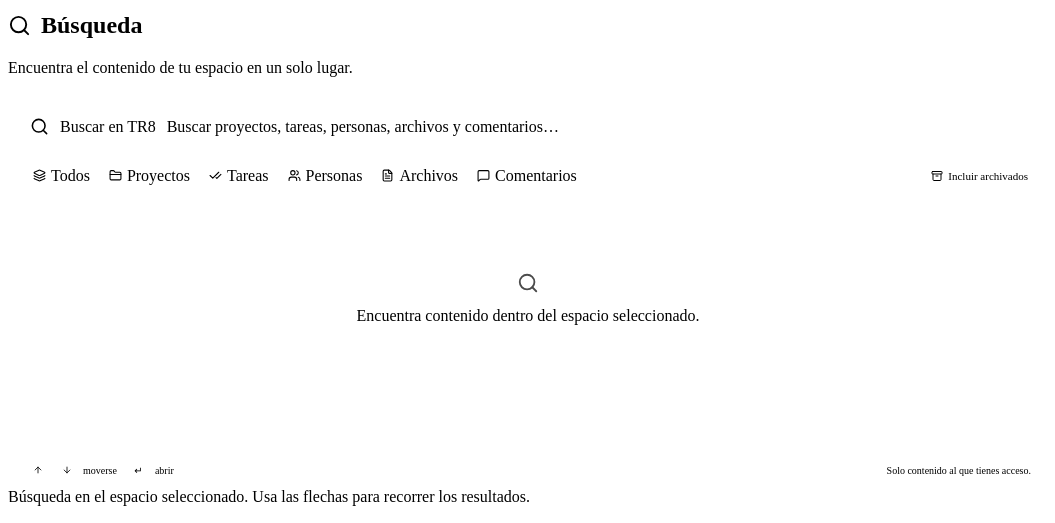
Test: búsqueda global y paleta de acciones › aborta una petición obsoleta e ignora una respuesta tardía
Type "Anterior" into the dropdown labelled "Buscar en TR8".
click(596, 127); type("Anterior")  # box [167,112,1026,142]
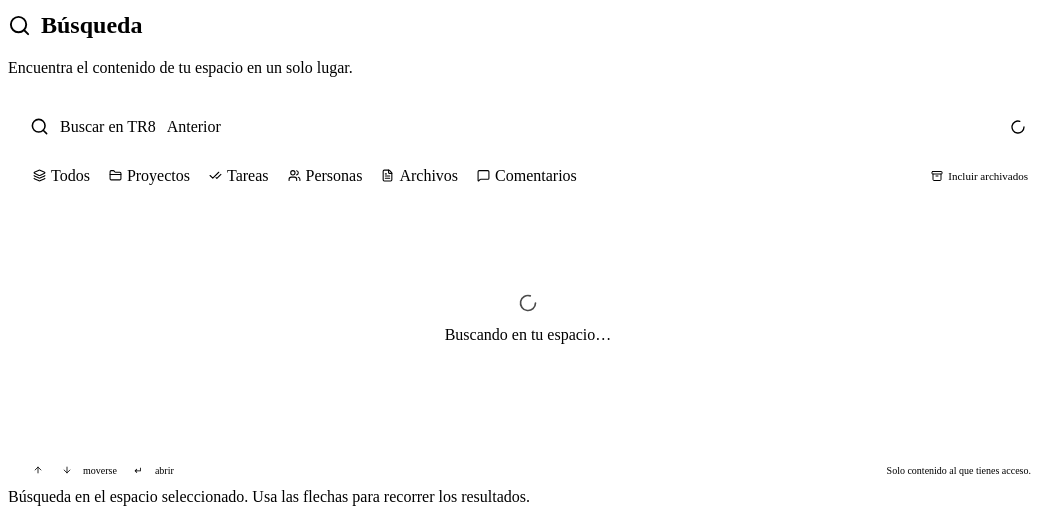
Replace the text in the dropdown labelled "Buscar en TR8" with "Plan" at (583, 127), box [167,112,999,142]
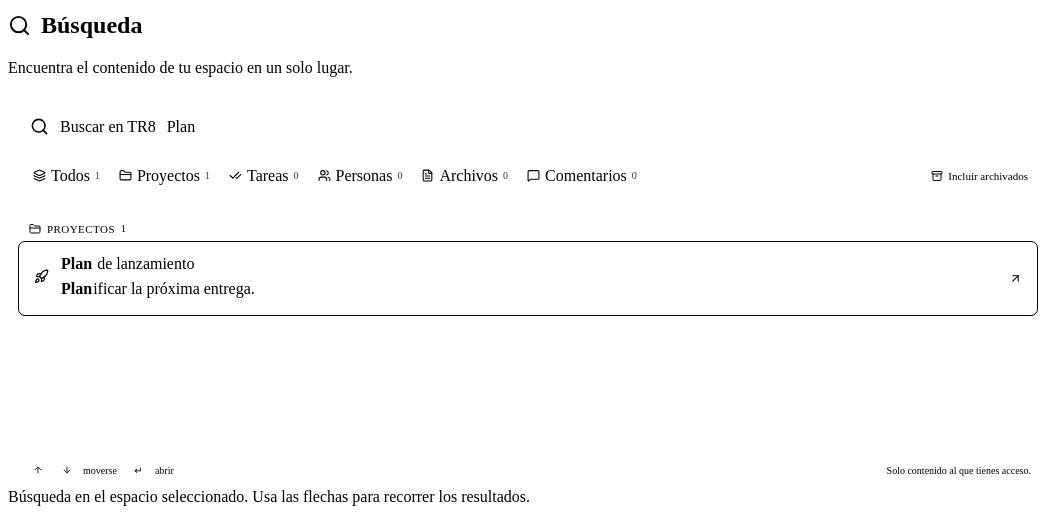
Now the option "Plan de lanzamiento Planificar la próxima entrega." is shown, box [18,241,1038,316]
